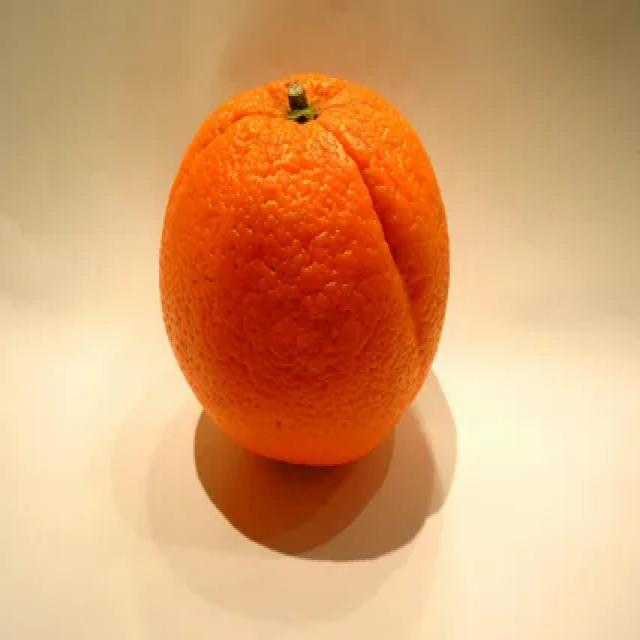orange: (143, 65, 454, 478)
